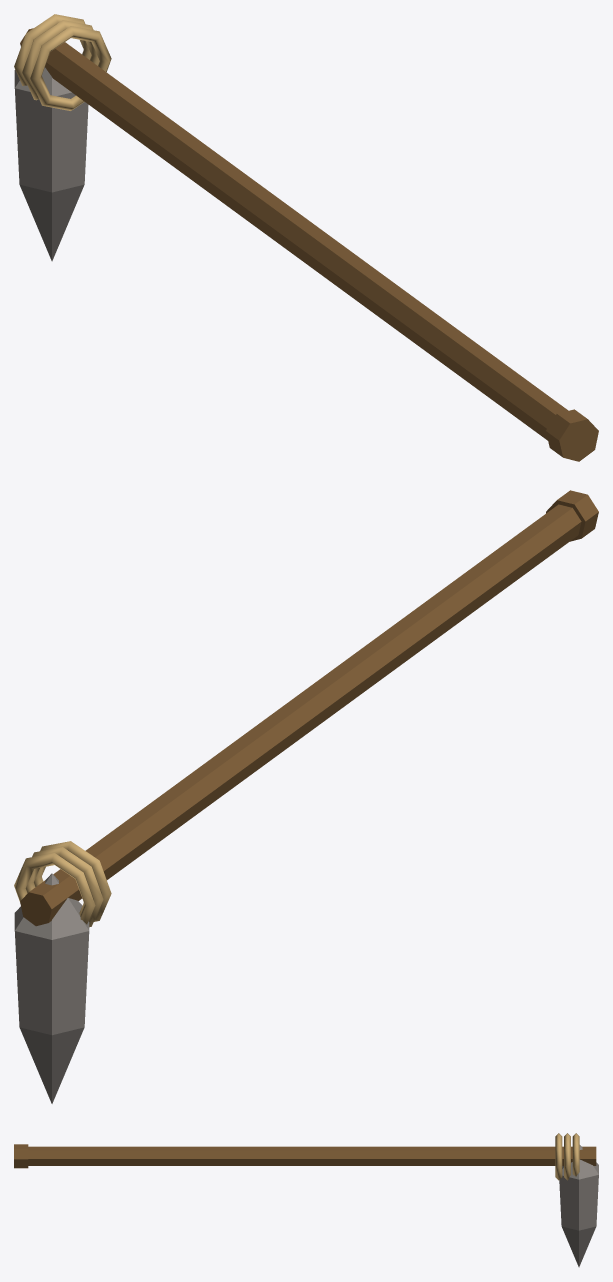
The model's file is Tool_Pickaxe_Stone.fbx.
3 views of the same model, one above another, from view 1: azimuth 30°, elevation 25°; view 2: azimuth 150°, elevation 25°; view 3: azimuth 270°, elevation 25° (orthographic). The views are drawn at different scales.
Visible parts, largest first — view 1: Tool_Pickaxe_Stone; view 2: Tool_Pickaxe_Stone; view 3: Tool_Pickaxe_Stone.
Boxes of the visible parts, x1,y1,x2,y2 form: Tool_Pickaxe_Stone: [14, 14, 598, 461]; Tool_Pickaxe_Stone: [14, 490, 598, 1103]; Tool_Pickaxe_Stone: [14, 1133, 598, 1267].
Bounding box in the file's own units: 3.5 × 10.25 × 40.59.
